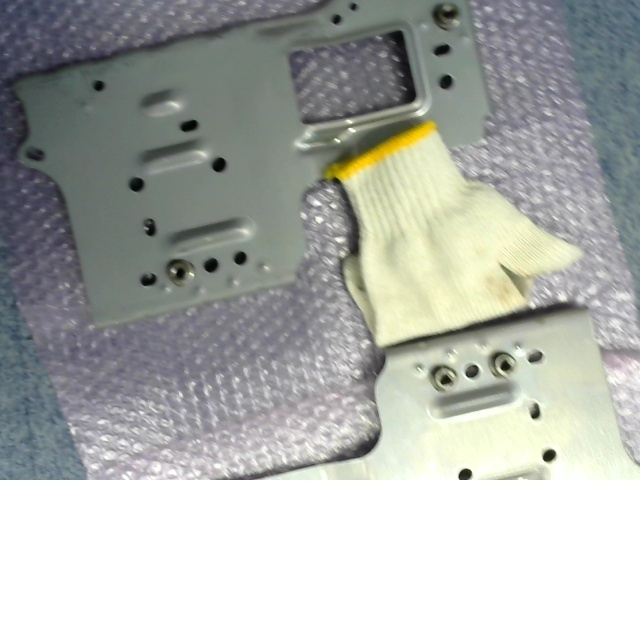dog: (430, 3, 463, 32), (490, 350, 517, 381), (166, 259, 195, 287), (431, 365, 458, 393)
